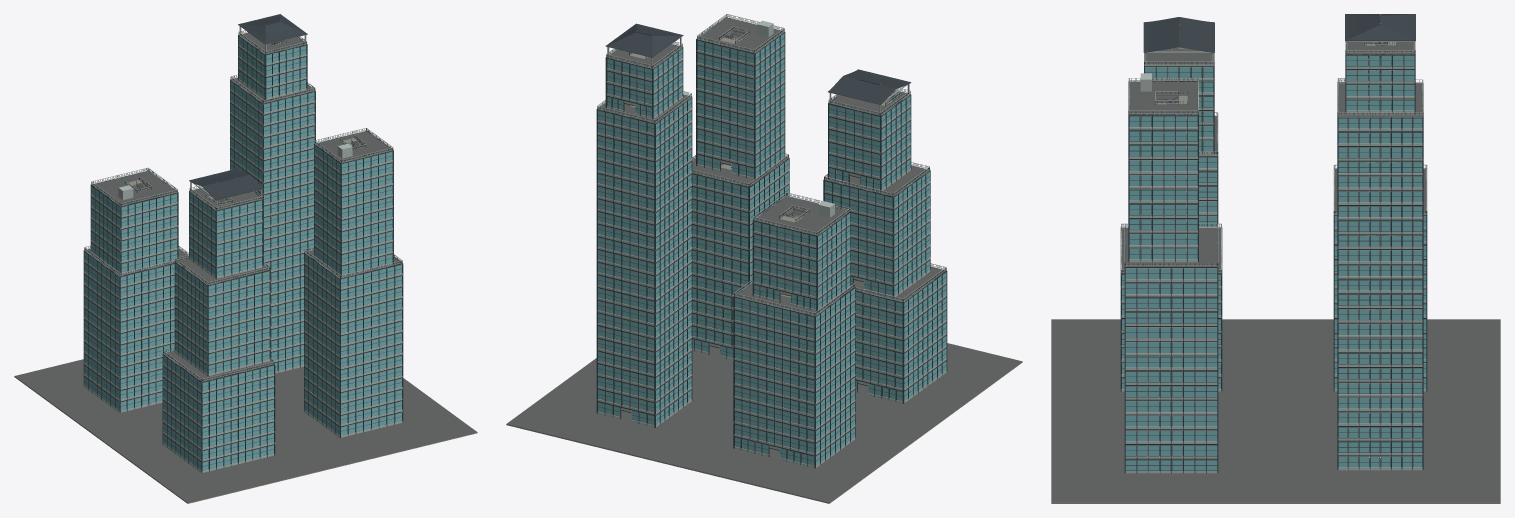
Rendered from visual-far.glb.
3 renders of one model, left to right at view 1: azimuth 30°, elevation 25°; view 2: azimuth 150°, elevation 25°; view 3: azimuth 270°, elevation 25°, orthographic. The views are drawn at different scales.
Parts seen in each view (by area): view 1: 金属框、密封环与独立幕墙玻璃 (×82), 石铺面与混凝土承板 (×7), 连续瓦檐与金属承板、钢梁 (×2); view 2: 金属框、密封环与独立幕墙玻璃 (×95), 石铺面与混凝土承板 (×9), 连续瓦檐与金属承板、钢梁 (×2); view 3: 金属框、密封环与独立幕墙玻璃 (×53), 石铺面与混凝土承板 (×6), 连续瓦檐与金属承板、钢梁 (×2).
Part boxes in pixels (x1,y1,x2,y2): 金属框、密封环与独立幕墙玻璃 (×82): [120, 44, 402, 472]; 石铺面与混凝土承板 (×7): [14, 32, 477, 503]; 连续瓦檐与金属承板、钢梁 (×2): [189, 14, 307, 200]; 金属框、密封环与独立幕墙玻璃 (×95): [597, 39, 947, 468]; 石铺面与混凝土承板 (×9): [506, 17, 1022, 503]; 连续瓦檐与金属承板、钢梁 (×2): [605, 23, 911, 104]; 金属框、密封环与独立幕墙玻璃 (×53): [1125, 54, 1422, 473]; 石铺面与混凝土承板 (×6): [1051, 41, 1500, 503]; 连续瓦檐与金属承板、钢梁 (×2): [1143, 14, 1415, 52].
Bounding box in the file's own units: 112 × 124 × 116.
14 materials, 14 textured.
